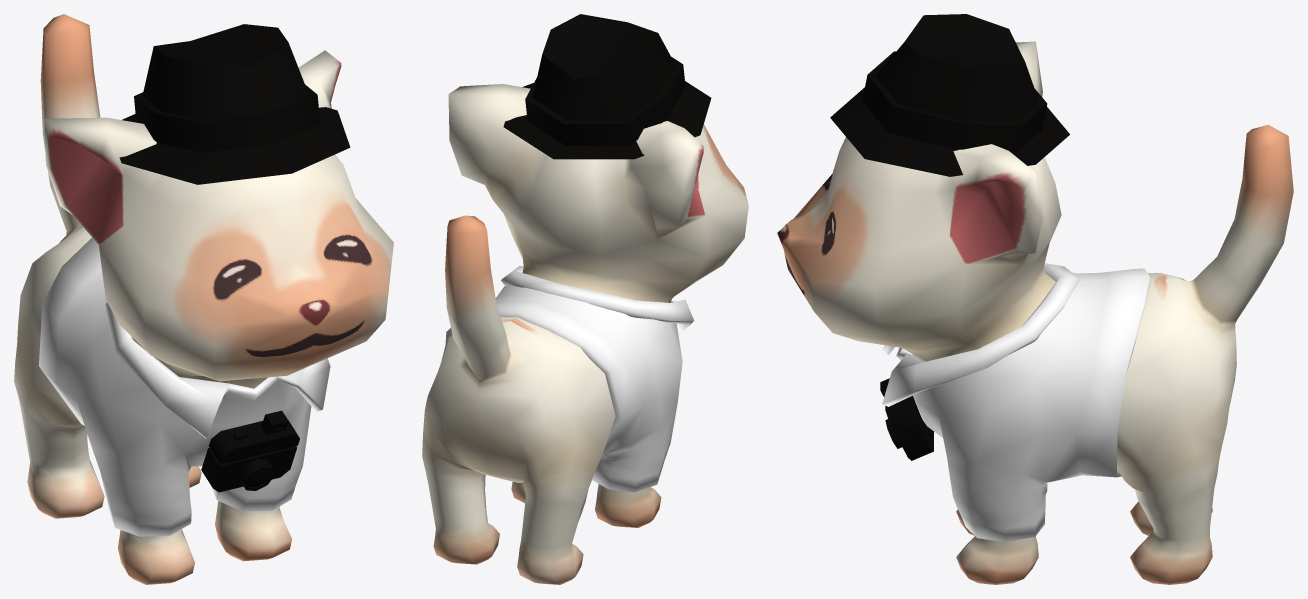
The model's file is Journalist Cat02.fbx.
3 renders of one model, left to right at view 1: azimuth 30°, elevation 25°; view 2: azimuth 150°, elevation 25°; view 3: azimuth 270°, elevation 25°, orthographic. The views are drawn at different scales.
Visible parts, largest first — view 1: Cat_Base001, Journalist_Cat_Shirt, Journalist_Cat_Hat, Journalist_Cat_Camera; view 2: Cat_Base001, Journalist_Cat_Hat, Journalist_Cat_Shirt; view 3: Cat_Base001, Journalist_Cat_Shirt, Journalist_Cat_Hat, Journalist_Cat_Camera.
Part boxes in pixels (bbox=[...]): Cat_Base001: bbox=[14, 14, 393, 584]; Journalist_Cat_Shirt: bbox=[39, 237, 330, 536]; Journalist_Cat_Hat: bbox=[119, 24, 350, 184]; Journalist_Cat_Camera: bbox=[201, 410, 299, 492]; Cat_Base001: bbox=[422, 84, 748, 584]; Journalist_Cat_Hat: bbox=[503, 14, 711, 159]; Journalist_Cat_Shirt: bbox=[445, 266, 693, 492]; Cat_Base001: bbox=[777, 41, 1293, 584]; Journalist_Cat_Shirt: bbox=[882, 263, 1150, 541]; Journalist_Cat_Hat: bbox=[830, 14, 1069, 176]; Journalist_Cat_Camera: bbox=[880, 378, 933, 460].
Size of the model in its own units: 1.75 by 2.83 by 3.11.
3 materials, 1 textured.
